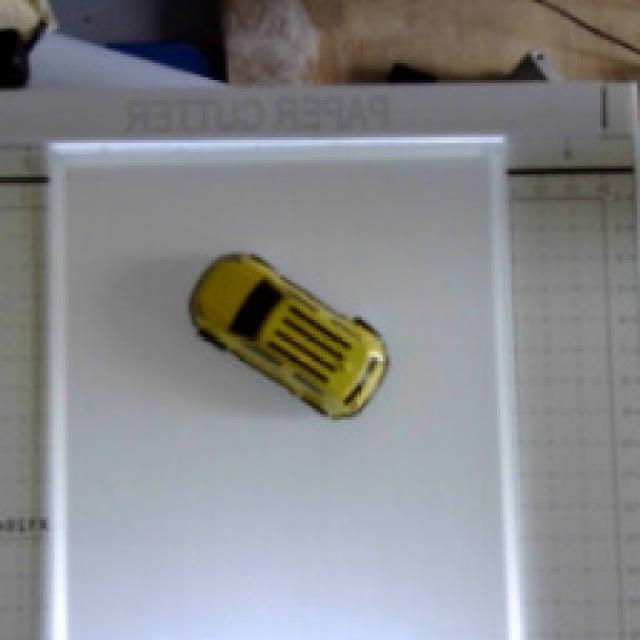Yellow Car: (140, 223, 403, 434)
